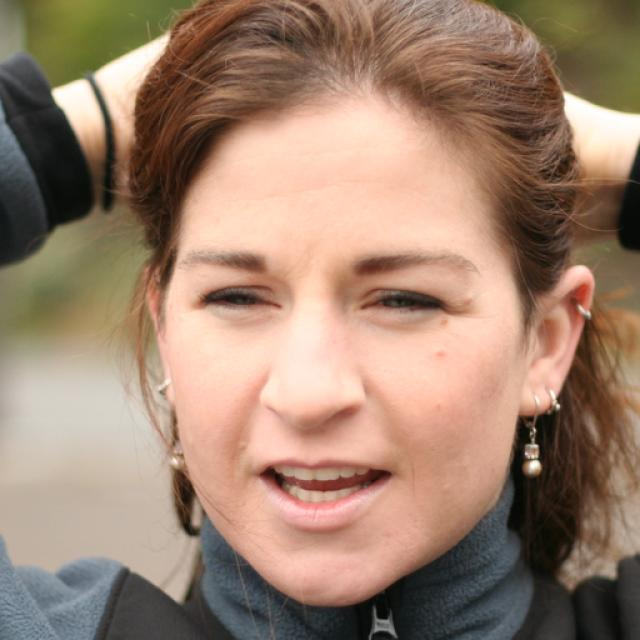Acne: (430, 343, 452, 361), (432, 312, 453, 330), (456, 294, 478, 308), (233, 439, 252, 454)
